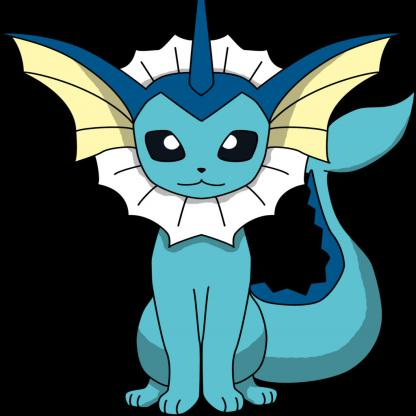Vaporeon: (7, 5, 416, 416)
